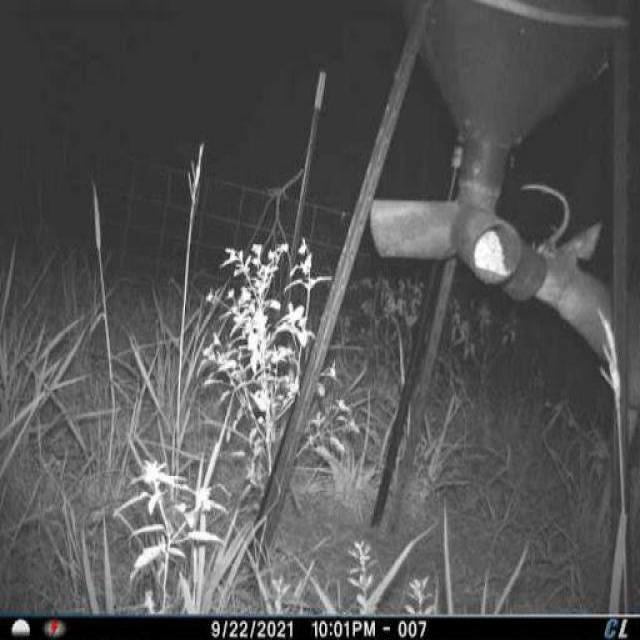deer: (515, 167, 640, 442)
